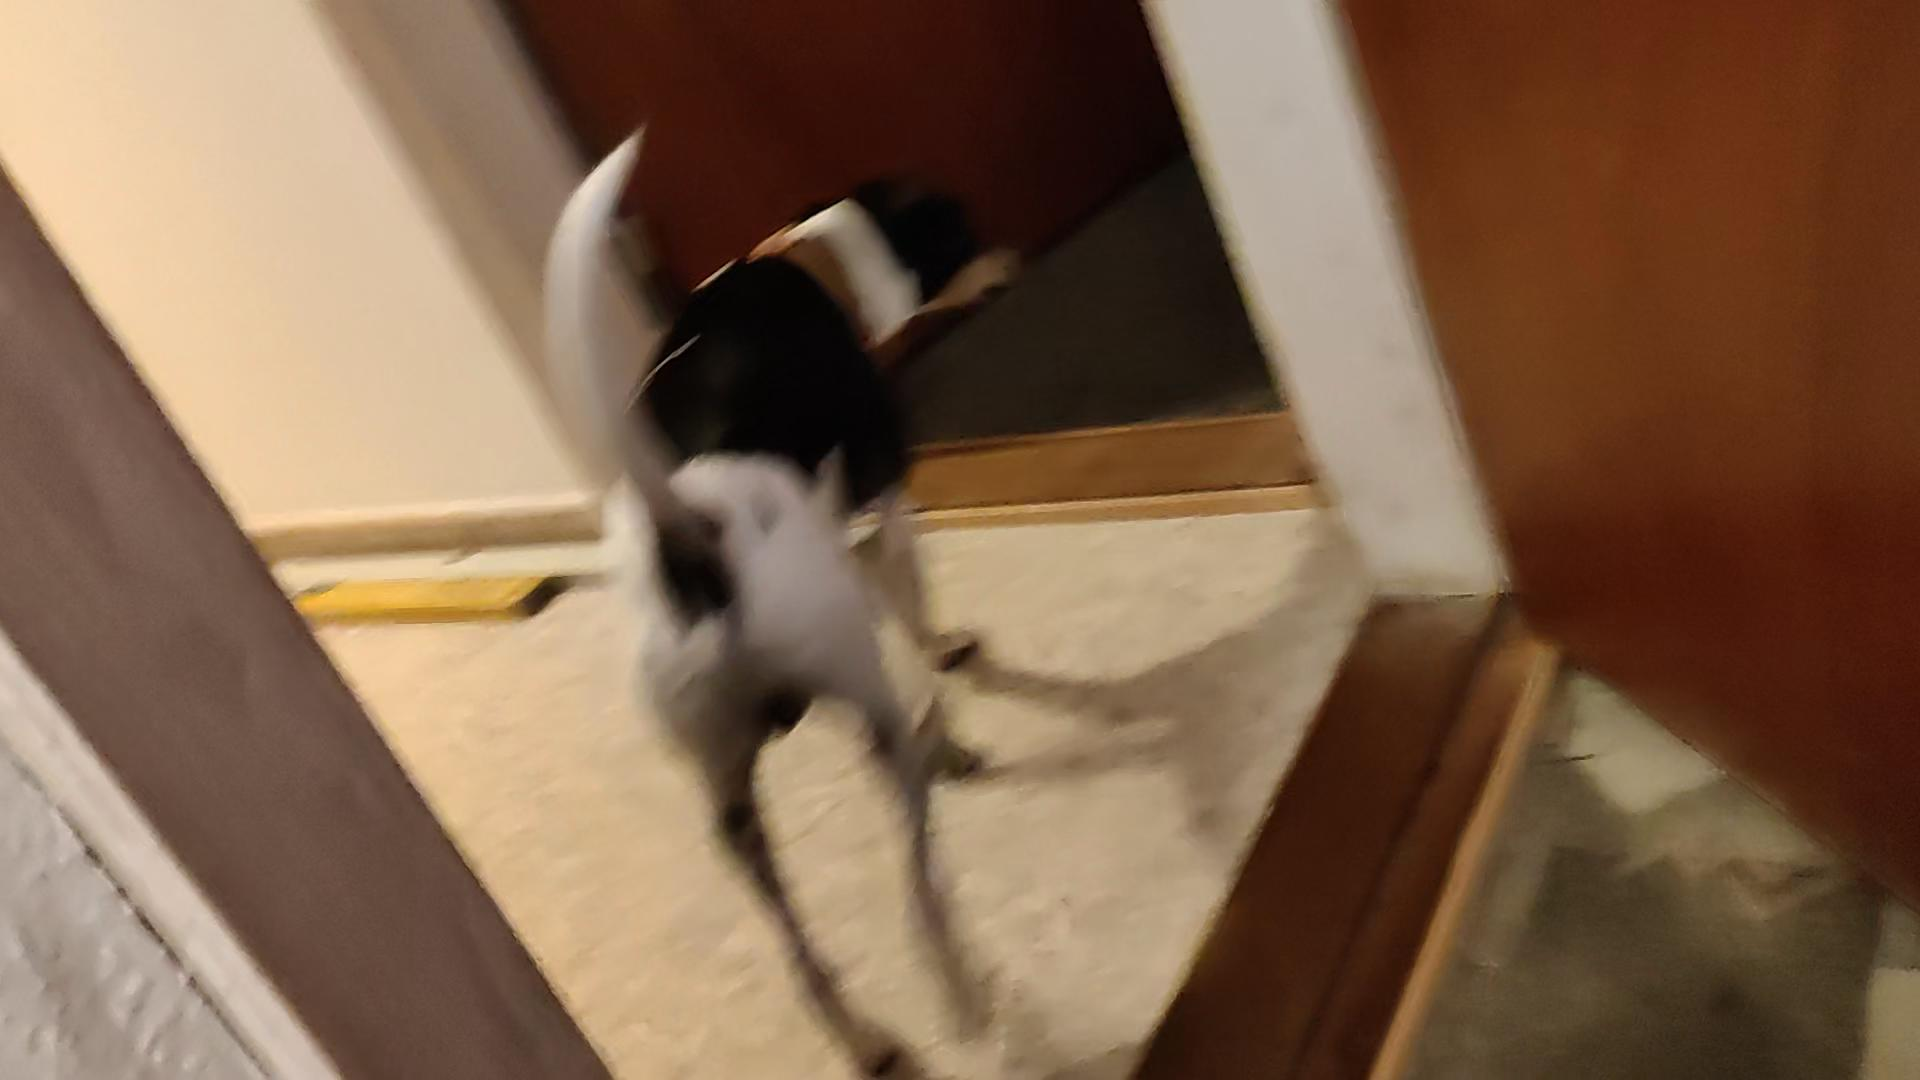Dog: (509, 103, 1055, 1079)
